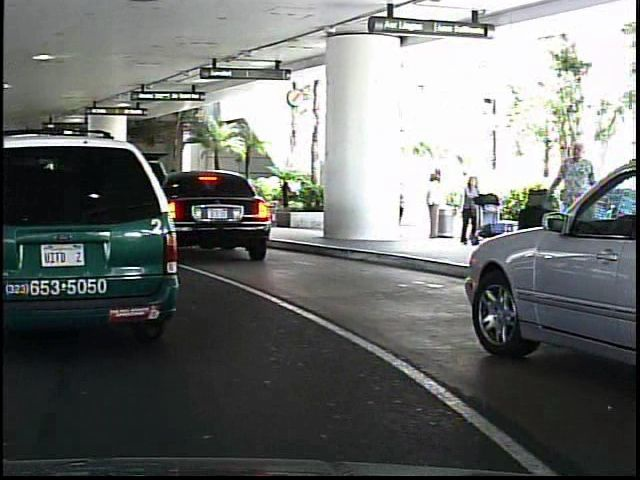person: (547, 133, 600, 284), (453, 172, 483, 250)
